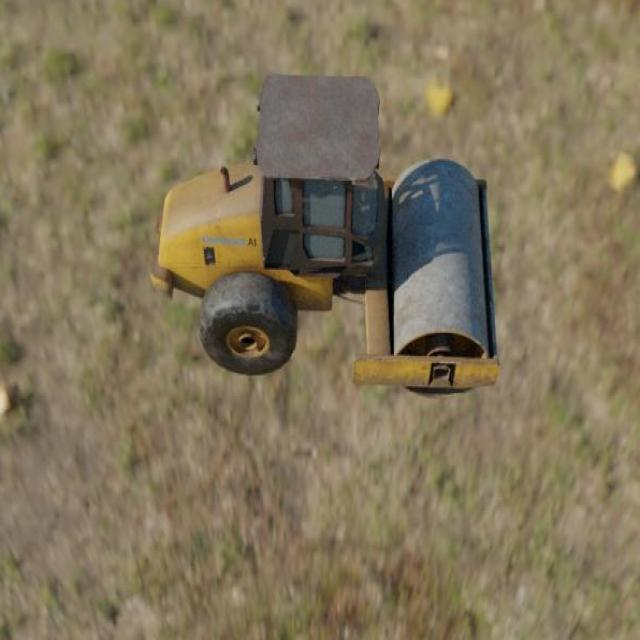Roller: (150, 72, 500, 399)
